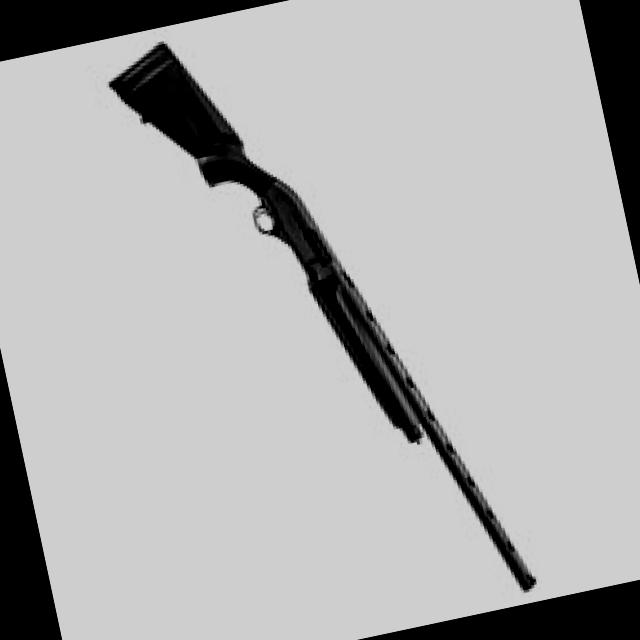long weapon: (97, 25, 556, 605)
